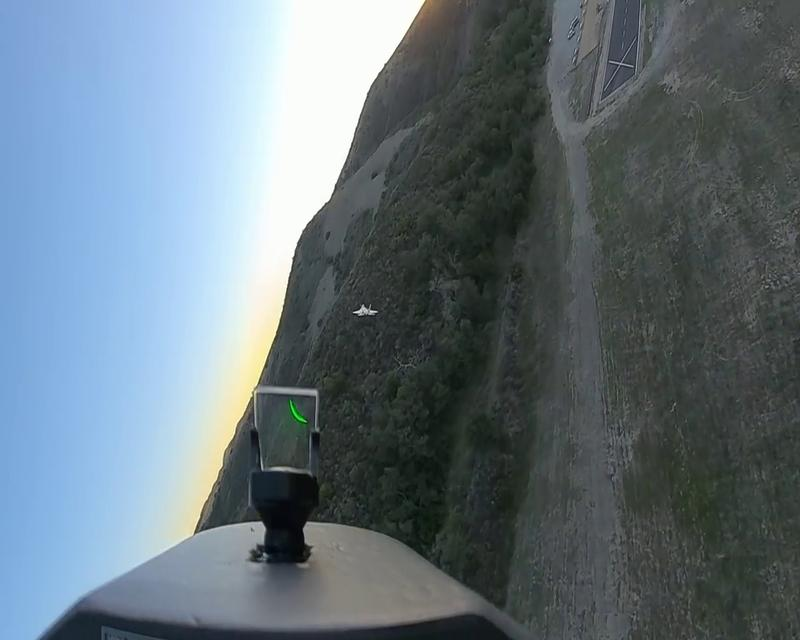UAV: (353, 302, 378, 317)
